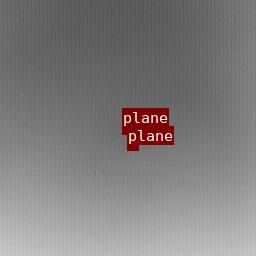plane: (122, 127, 135, 134), (127, 145, 138, 150)
